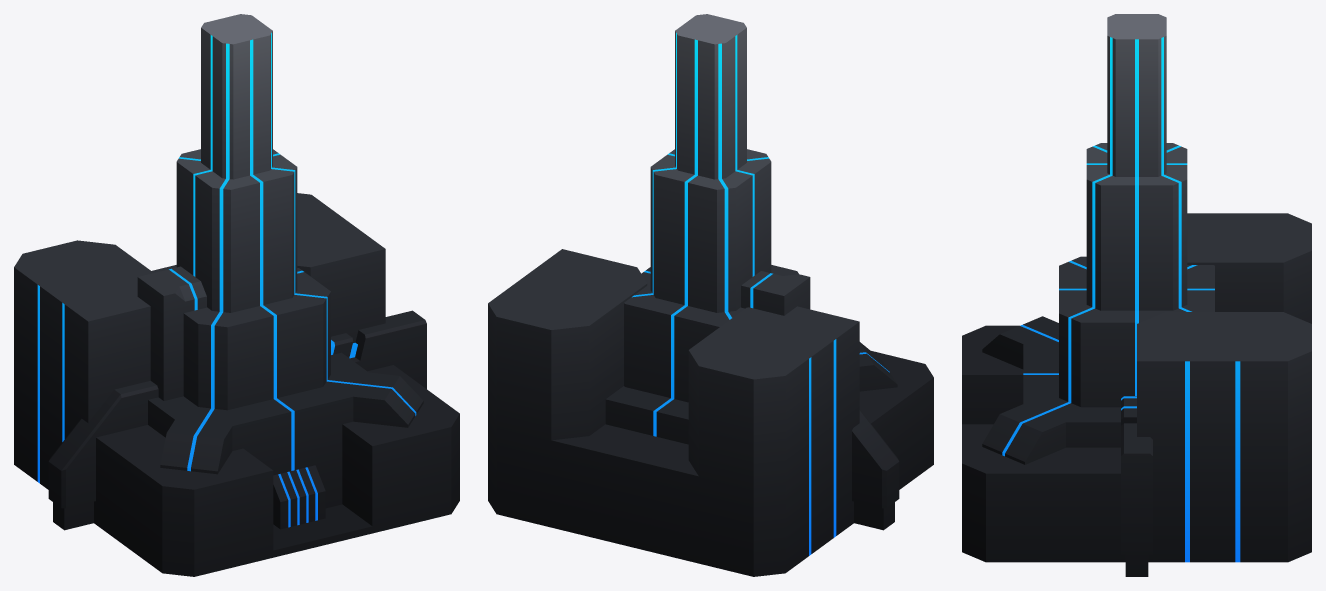
The model's file is env_props.fbx.
The picture shows the model from 3 angles, left to right: view 1: azimuth 30°, elevation 25°; view 2: azimuth 150°, elevation 25°; view 3: azimuth 270°, elevation 25°; orthographic projection.
Visible parts, largest first — view 1: Plane.066, Plane.065, Plane.067, Plane.063, Plane.062; view 2: Plane.066, Plane.065, Plane.067, Plane.063; view 3: Plane.066, Plane.065, Plane.067.
Boxes of the visible parts, <box> form: Plane.066: <box>14,193,459,576</box>; Plane.065: <box>148,14,423,508</box>; Plane.067: <box>48,310,426,530</box>; Plane.063: <box>137,266,206,400</box>; Plane.062: <box>273,465,325,529</box>; Plane.066: <box>488,249,933,576</box>; Plane.065: <box>605,14,897,444</box>; Plane.067: <box>852,409,899,530</box>; Plane.063: <box>741,271,810,315</box>; Plane.066: <box>962,213,1311,562</box>; Plane.065: <box>982,14,1214,464</box>; Plane.067: <box>1121,396,1152,576</box>.
Bounding box in the file's own units: 810 × 967 × 661.
